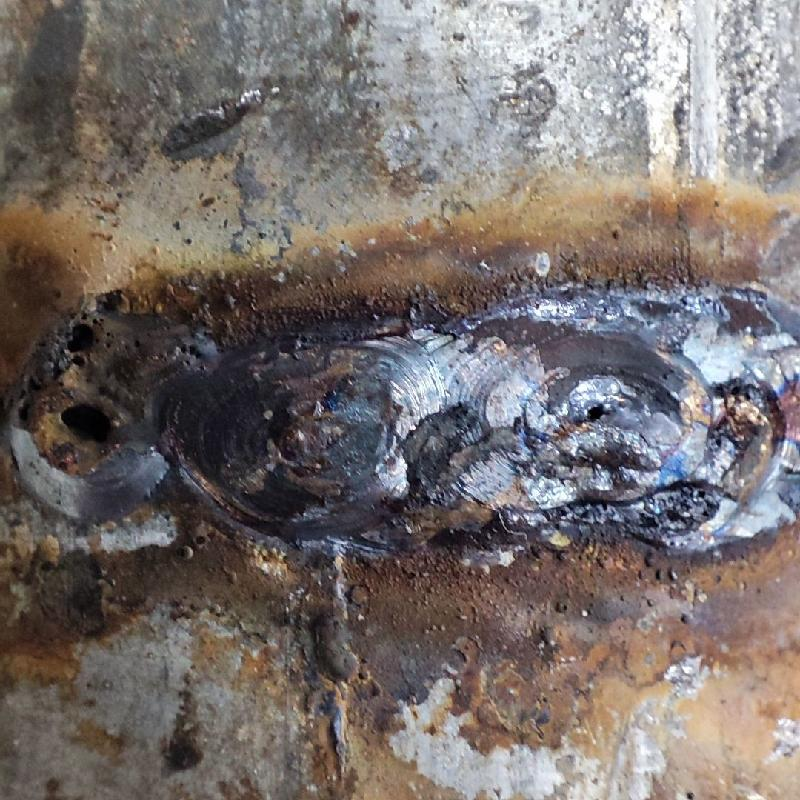Surface_pores: (45, 387, 113, 445), (569, 385, 621, 436)
crater: (435, 328, 798, 525)
